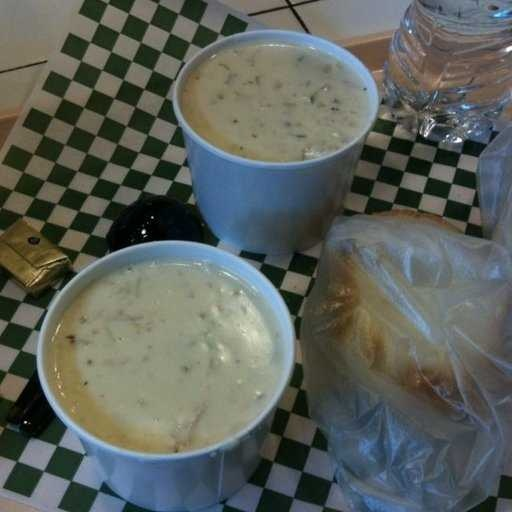soup: (63, 262, 274, 444), (192, 50, 361, 148)
